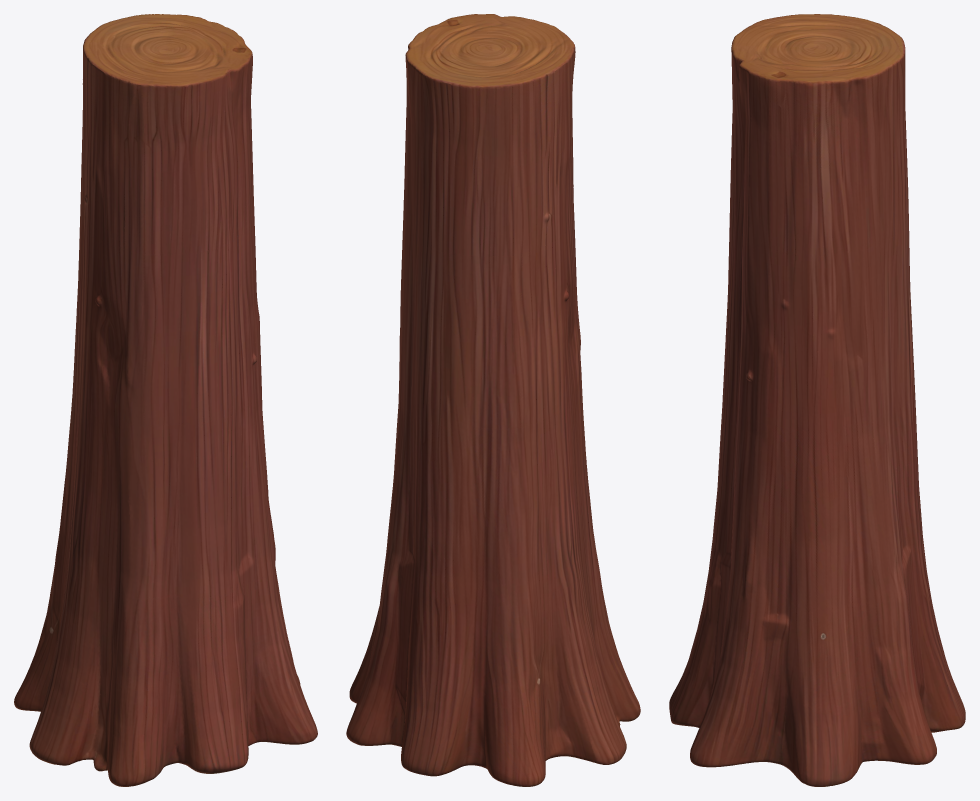
File: redwood_trunk_hero_b.glb
The picture shows the model from 3 angles, left to right: view 1: azimuth 30°, elevation 25°; view 2: azimuth 150°, elevation 25°; view 3: azimuth 270°, elevation 25°; orthographic projection.
Parts seen in each view (by area): view 1: tripo_node_8a0535d1-b61b-4d40-91b5-bc0e633b5189; view 2: tripo_node_8a0535d1-b61b-4d40-91b5-bc0e633b5189; view 3: tripo_node_8a0535d1-b61b-4d40-91b5-bc0e633b5189.
Part boxes in pixels (left/top/right/bottom): tripo_node_8a0535d1-b61b-4d40-91b5-bc0e633b5189: left=14, top=14, right=317, bottom=786; tripo_node_8a0535d1-b61b-4d40-91b5-bc0e633b5189: left=346, top=14, right=640, bottom=786; tripo_node_8a0535d1-b61b-4d40-91b5-bc0e633b5189: left=669, top=14, right=965, bottom=786.
Bounding box in the file's own units: 0.4047 × 1 × 0.3925.
Materials: 1 (1 with a texture image).
